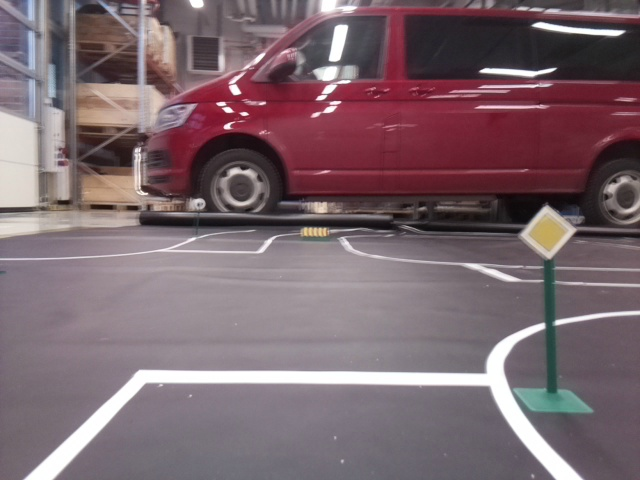Priority: (514, 204, 578, 259)
